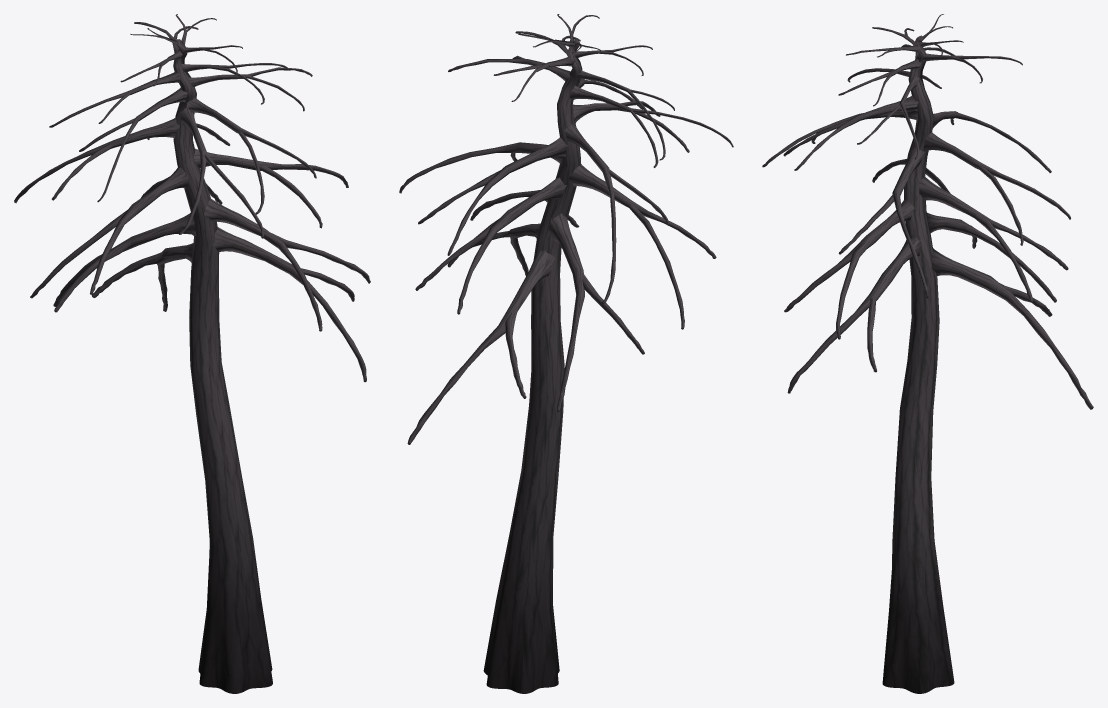
File: Dead_2.glb
3 views of the same model, side by side, from view 1: azimuth 30°, elevation 25°; view 2: azimuth 150°, elevation 25°; view 3: azimuth 270°, elevation 25° (orthographic). The views are drawn at different scales.
Visible parts, largest first — view 1: DeadTree_3; view 2: DeadTree_3; view 3: DeadTree_3.
Boxes of the visible parts, x1,y1,x2,y2 form: DeadTree_3: [14, 14, 370, 693]; DeadTree_3: [399, 14, 733, 693]; DeadTree_3: [762, 14, 1093, 693].
Bounding box in the file's own units: 6.39 × 13.28 × 6.43.
Materials: 1 (1 with a texture image).
